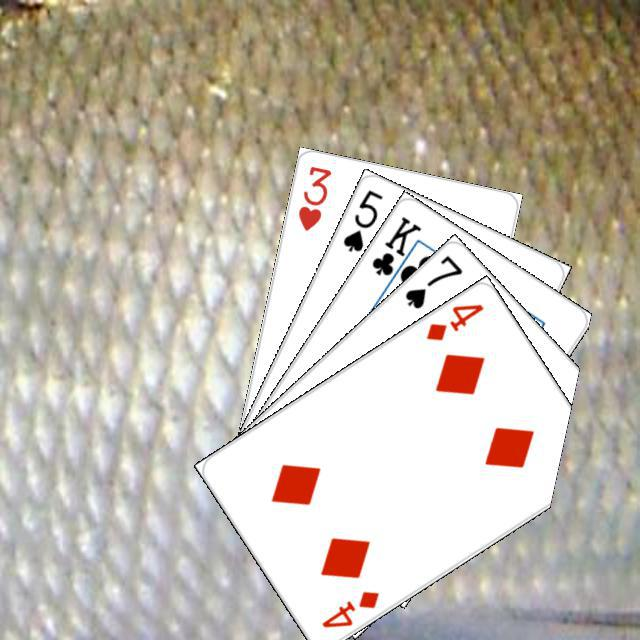3h: (293, 161, 333, 233)
4d: (316, 585, 382, 630), (421, 299, 485, 343)
5s: (338, 184, 385, 254)
7s: (399, 250, 464, 311)
Kc: (366, 211, 424, 291)
